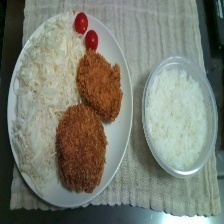rice: (144, 68, 212, 171)
